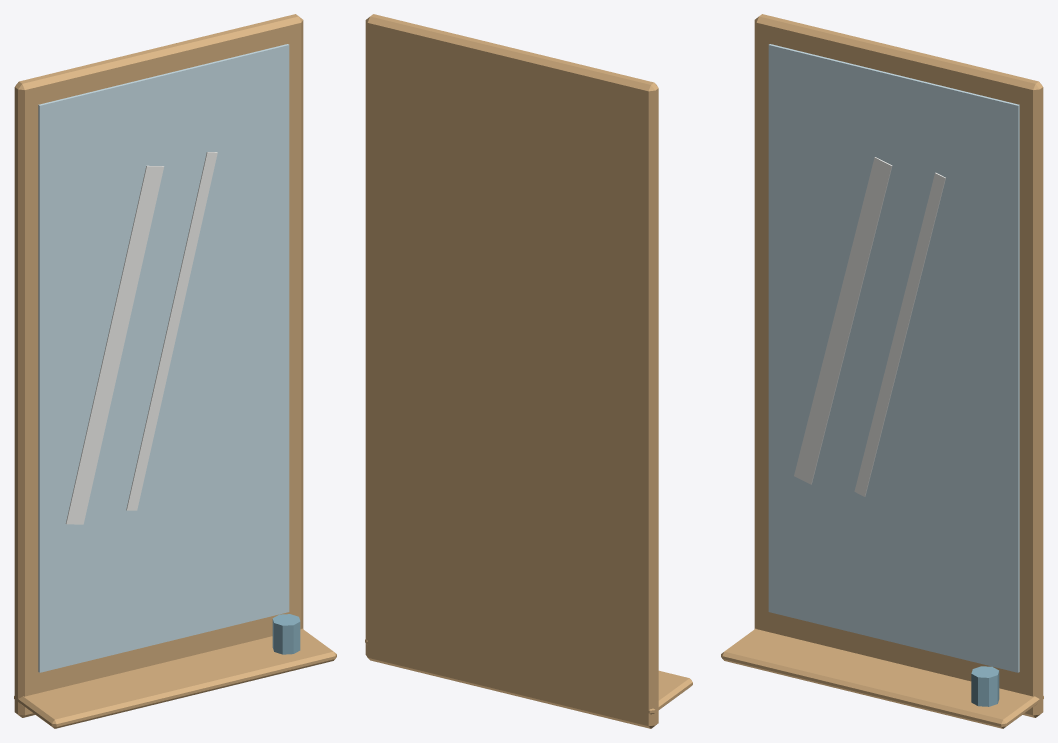
File: mirror.glb
3 views of the same model, side by side, from view 1: azimuth 30°, elevation 25°; view 2: azimuth 150°, elevation 25°; view 3: azimuth 330°, elevation 25° (orthographic).
Visible parts, largest first — view 1: mirror_Body; view 2: mirror_Body; view 3: mirror_Body.
Part boxes in pixels (box(x1,y1,x2,y2)): mirror_Body: box(14, 14, 336, 728); mirror_Body: box(365, 14, 692, 728); mirror_Body: box(721, 14, 1043, 728).
Bounding box in the file's own units: 0.8 × 1.7 × 0.2.
